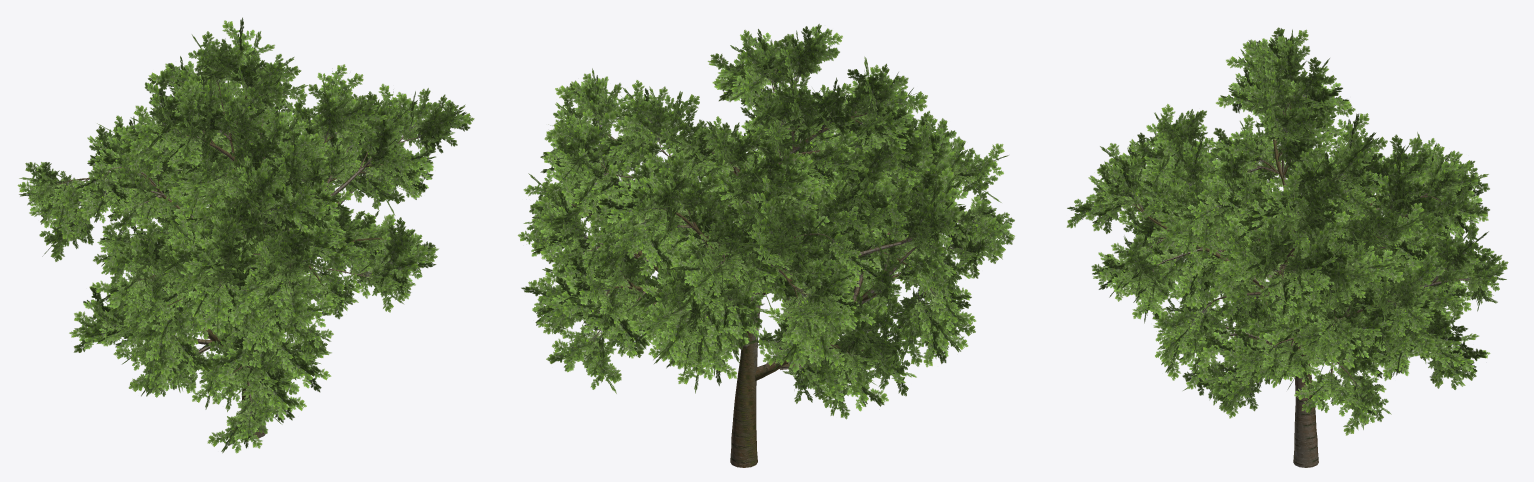
The model's file is tree1.glb.
3 renders of one model, left to right at view 1: azimuth 30°, elevation 25°; view 2: azimuth 150°, elevation 25°; view 3: azimuth 270°, elevation 25°, orthographic. The views are drawn at different scales.
Parts seen in each view (by area): view 1: Tree EZTree1.Large009; view 2: Tree EZTree1.Large009; view 3: Tree EZTree1.Large009.
Part boxes in pixels (box(x1,y1,x2,y2)): Tree EZTree1.Large009: box(17, 17, 474, 453); Tree EZTree1.Large009: box(517, 24, 1014, 467); Tree EZTree1.Large009: box(1066, 27, 1508, 467).
Size of the model in its own units: 108 by 107 by 109.
Materials: 2 (2 with a texture image).
